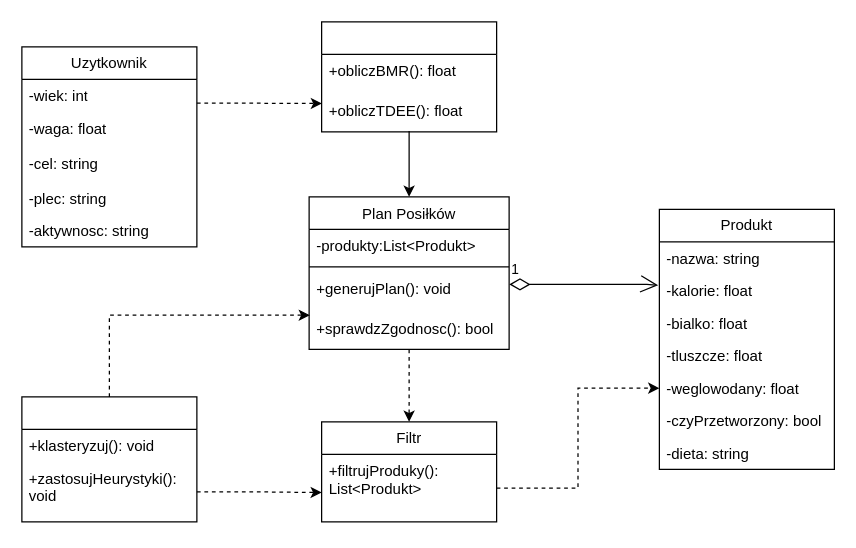
This 856x548 diagram has some shape labels left out. Each missing label, with the box of its shape:
Algorytm AI: (21, 396, 197, 522)
BMR_TDEE_Kalkulator: (320, 21, 497, 132)
